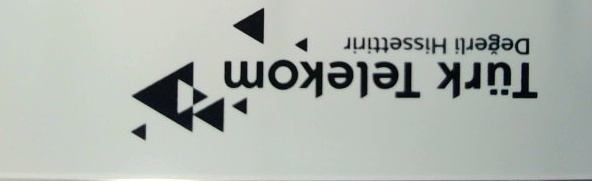AQ_TURKTelekom: (116, 8, 542, 143)
